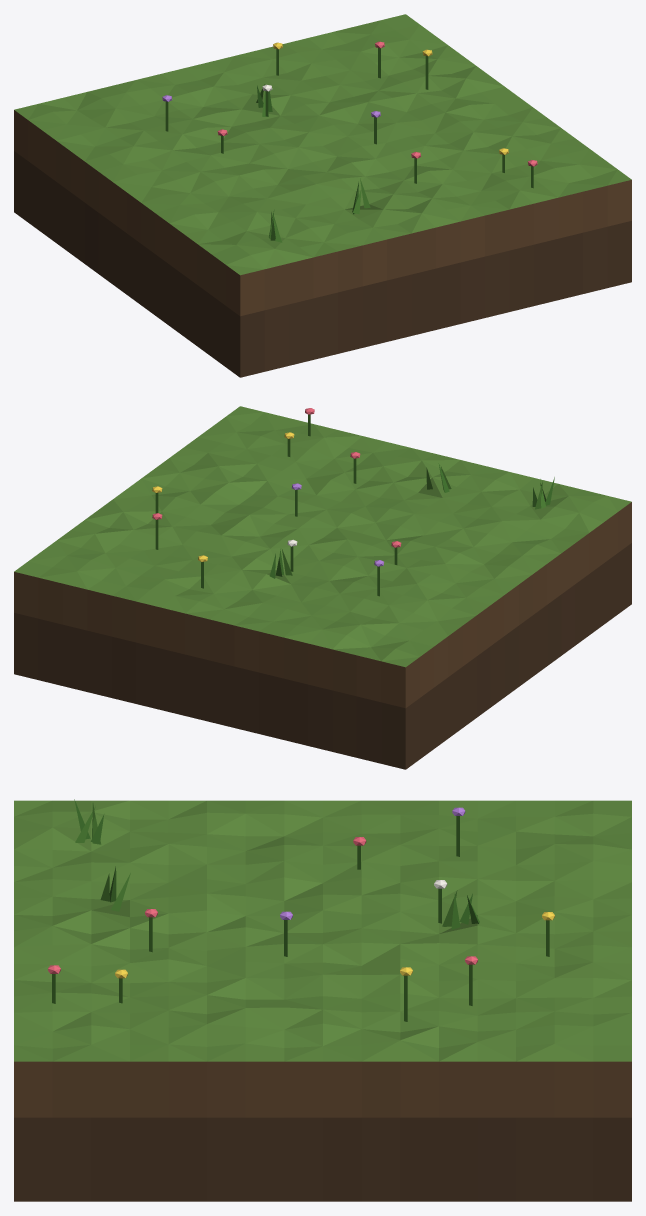
Rendered from grass_2.glb.
3 views of the same model, one above another, from view 1: azimuth 30°, elevation 25°; view 2: azimuth 150°, elevation 25°; view 3: azimuth 270°, elevation 25° (orthographic). The views are drawn at different scales.
Visible parts, largest first — view 1: Grass2; view 2: Grass2; view 3: Grass2.
Part boxes in pixels (<box>): Grass2: <box>14,14,631,377</box>; Grass2: <box>14,406,631,769</box>; Grass2: <box>14,799,631,1201</box>.
Bounding box in the file's own units: 2 × 0.6928 × 2.
